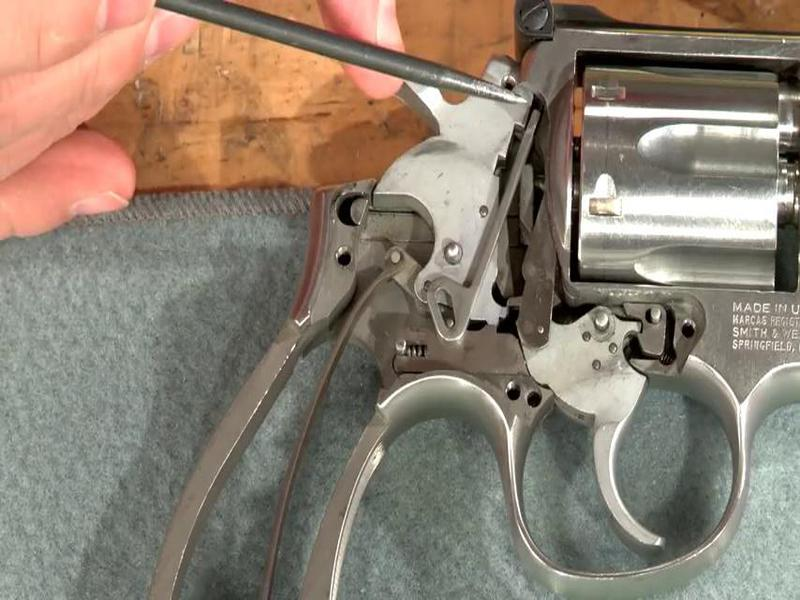Revolver: (167, 14, 800, 564)
